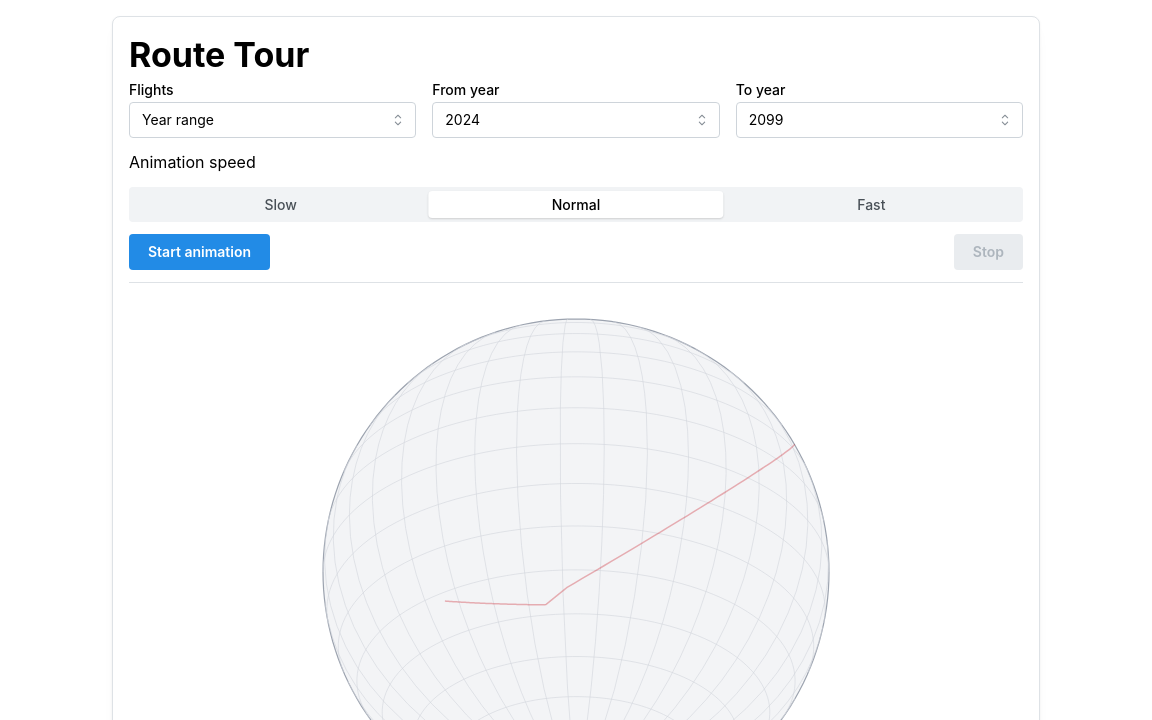
WorldTour › keeps route label hidden before start and shows it after start
Click the button "Start animation": (200, 252) [129,234,270,270]
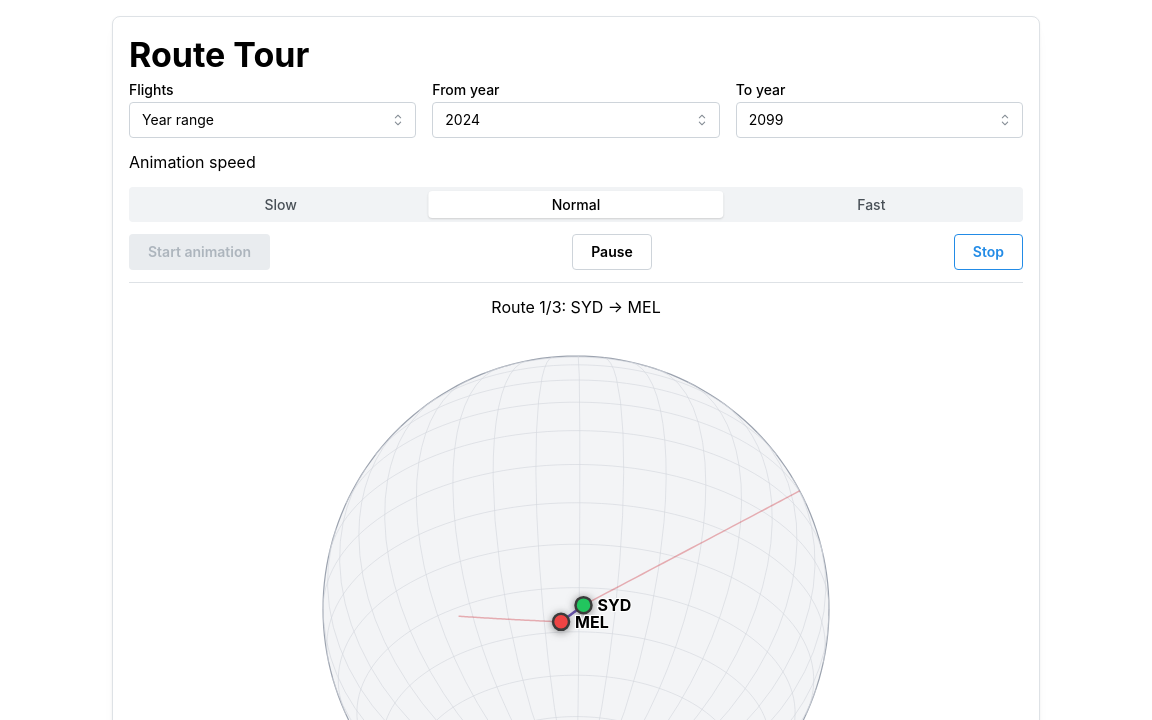
Check: the text "Route 1/3: SYD -> MEL" is shown, box [491,298,661,318]
